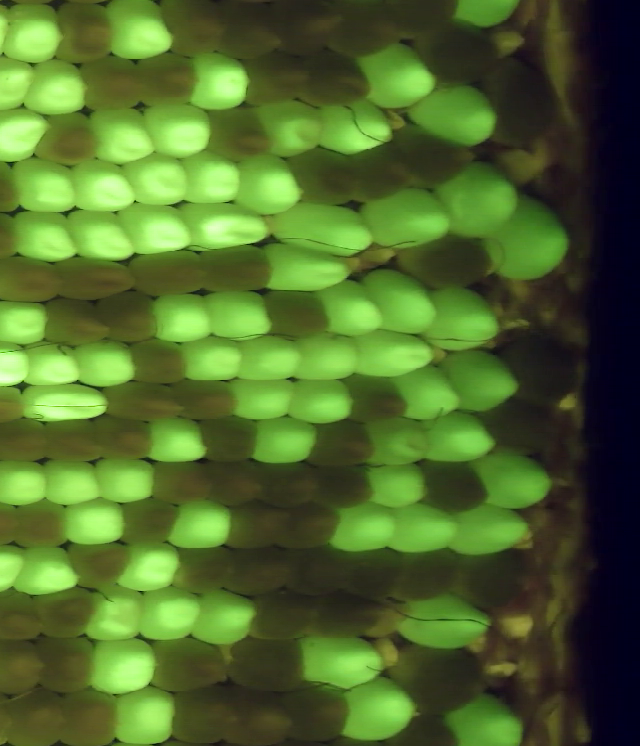fluorescent: (483, 188, 579, 287), (429, 155, 527, 246), (352, 182, 459, 254), (391, 589, 500, 657), (351, 39, 443, 118), (270, 197, 383, 259), (408, 78, 503, 150), (435, 345, 524, 419), (421, 281, 505, 359), (357, 264, 441, 339), (291, 629, 388, 693), (254, 239, 357, 299), (468, 448, 562, 513), (74, 632, 163, 700), (228, 149, 315, 216), (338, 674, 423, 742), (314, 94, 401, 159), (187, 581, 267, 651), (197, 283, 282, 348), (249, 96, 333, 161), (443, 500, 535, 559), (413, 408, 501, 469), (440, 688, 532, 746), (180, 199, 275, 255), (98, 1, 178, 67), (85, 103, 164, 169), (109, 202, 202, 258), (385, 363, 467, 426), (9, 153, 83, 222), (105, 683, 186, 746), (19, 54, 95, 120), (357, 456, 439, 517), (15, 379, 115, 429), (139, 96, 218, 159), (60, 207, 144, 266), (179, 49, 254, 114), (64, 155, 145, 215), (78, 581, 152, 646), (119, 149, 197, 210), (173, 145, 247, 209), (137, 410, 218, 468), (5, 542, 86, 599), (317, 274, 388, 339), (350, 328, 438, 380), (249, 415, 329, 472), (0, 1, 68, 68), (230, 329, 308, 387), (163, 496, 242, 553), (133, 584, 208, 643), (7, 206, 85, 262), (114, 539, 189, 597), (324, 499, 406, 552), (282, 376, 365, 428), (357, 413, 435, 468), (143, 290, 218, 347), (290, 327, 365, 384), (66, 335, 145, 389), (384, 499, 461, 554), (90, 451, 164, 507), (222, 374, 300, 425), (0, 102, 60, 168), (55, 496, 133, 546), (36, 455, 112, 506), (18, 337, 86, 389), (181, 336, 249, 386), (0, 296, 63, 349), (0, 455, 56, 510), (0, 53, 39, 113), (0, 336, 37, 391), (0, 543, 32, 597)
nonfluorescent: (479, 51, 565, 155), (384, 640, 494, 720), (491, 327, 586, 412), (410, 16, 505, 89), (385, 120, 481, 192), (394, 229, 497, 293), (223, 629, 313, 698), (288, 46, 382, 112), (145, 633, 235, 699), (275, 679, 363, 746), (455, 543, 534, 617), (160, 680, 246, 746), (280, 144, 365, 210), (46, 684, 136, 746), (475, 399, 567, 459), (215, 684, 301, 746), (198, 99, 277, 166), (411, 456, 495, 519), (48, 251, 145, 304), (344, 138, 420, 205), (28, 631, 105, 697), (267, 1, 350, 62), (47, 1, 122, 68), (131, 47, 208, 112), (239, 589, 325, 647), (322, 1, 401, 64), (195, 241, 279, 299), (386, 548, 468, 607), (121, 246, 212, 299), (0, 685, 79, 746), (234, 49, 316, 107), (214, 1, 286, 67), (222, 541, 302, 600), (302, 416, 386, 472), (153, 1, 234, 59), (301, 591, 386, 646), (95, 379, 190, 428), (257, 285, 337, 343), (5, 496, 80, 557), (94, 285, 167, 347), (335, 371, 415, 427), (31, 110, 105, 169), (307, 459, 381, 518), (78, 50, 144, 116), (342, 543, 411, 606), (284, 543, 360, 600), (166, 542, 243, 598), (270, 500, 348, 555), (33, 583, 98, 647), (38, 295, 115, 349), (216, 501, 293, 555), (200, 456, 275, 509), (115, 495, 185, 551), (63, 539, 138, 591), (86, 412, 158, 466), (123, 334, 193, 389), (255, 457, 325, 512), (192, 413, 266, 465), (144, 458, 219, 509), (166, 377, 244, 425), (373, 1, 462, 43), (38, 416, 109, 467), (0, 253, 68, 304), (0, 634, 52, 696), (0, 414, 56, 467), (0, 587, 49, 646), (0, 155, 30, 218), (0, 383, 39, 429)
